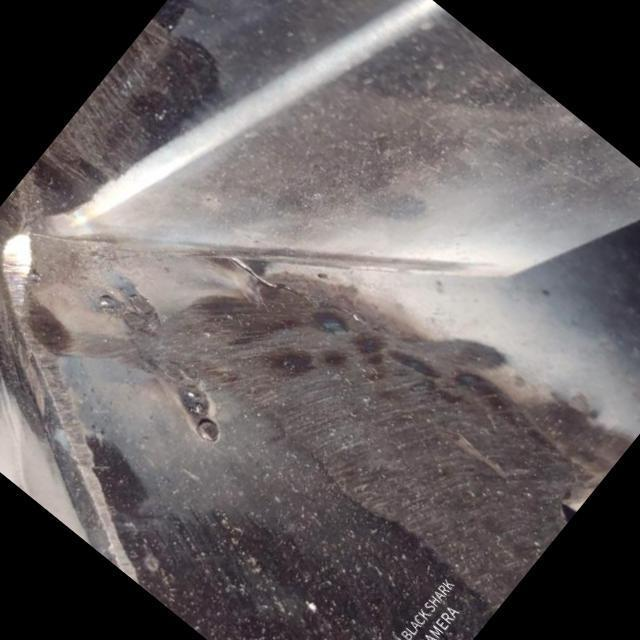defect: (224, 249, 370, 329)
